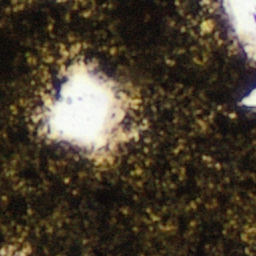cement_matrix: (0, 0, 255, 255), (36, 59, 138, 163), (202, 22, 211, 30)
gravel_crushed_stones: (37, 60, 137, 162), (220, 0, 255, 62), (244, 88, 255, 108), (3, 251, 21, 255), (203, 23, 210, 29)
